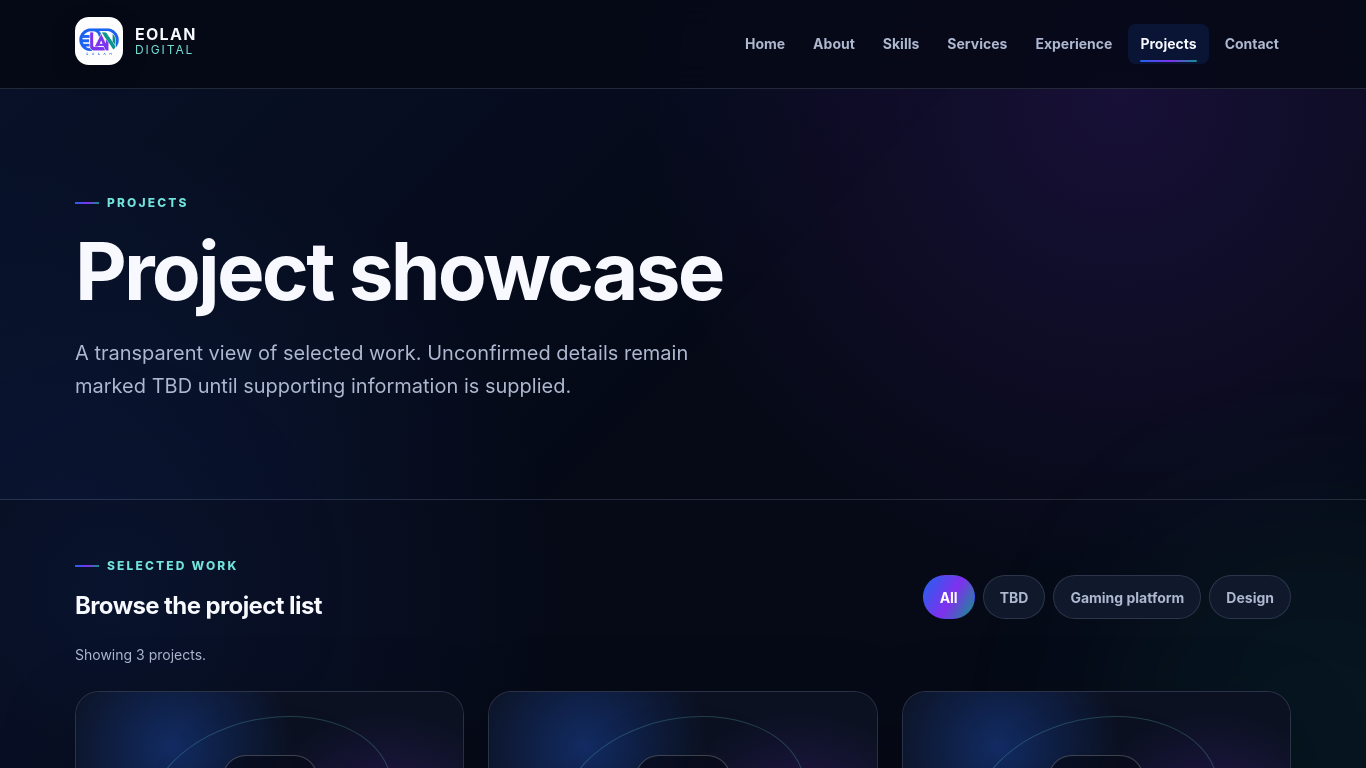
Test case: project gallery › filters cards by their disclosed category
Click the button "Design": coordinates (1250, 597) [1209,575,1291,619]
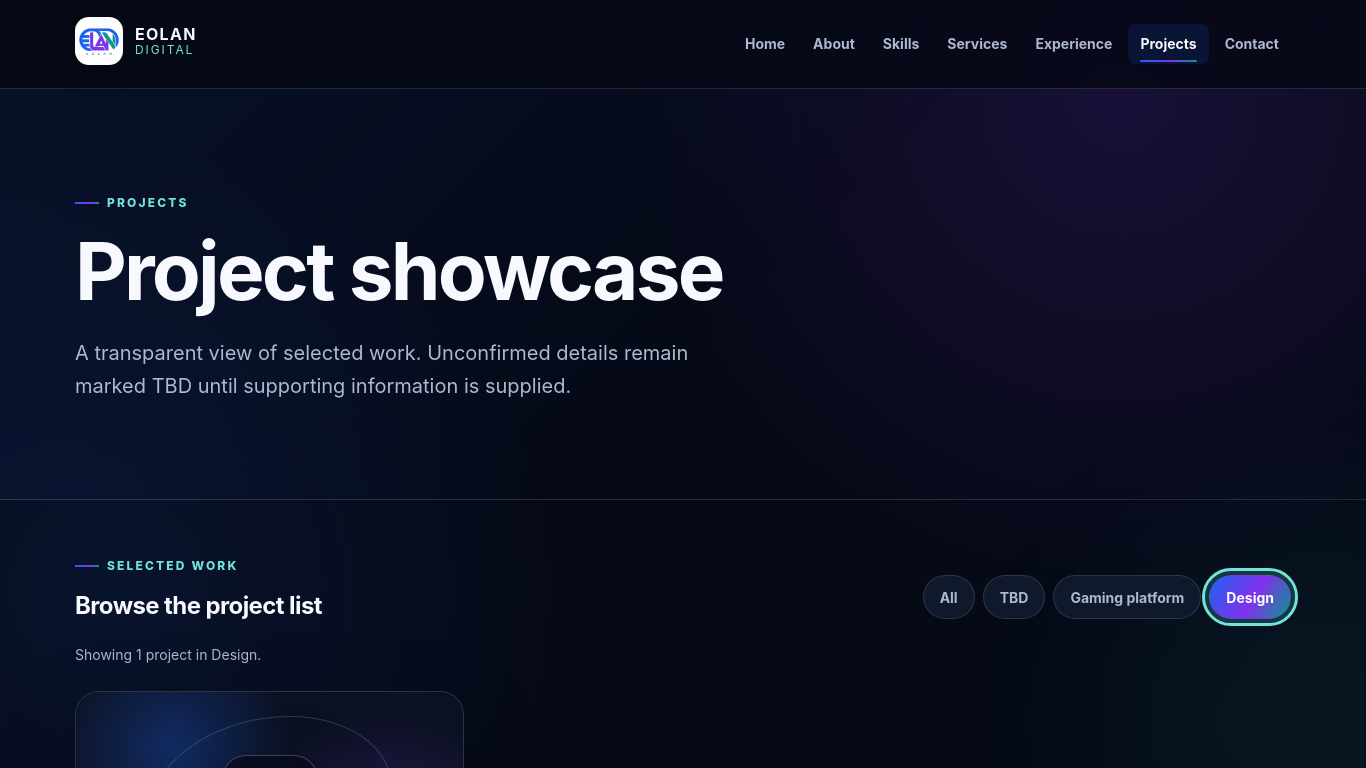
Expected: the text "Showing 1 project in Design." is shown, [75,646,261,663]
Click the button "All": coordinates (949, 597) [923,575,975,619]
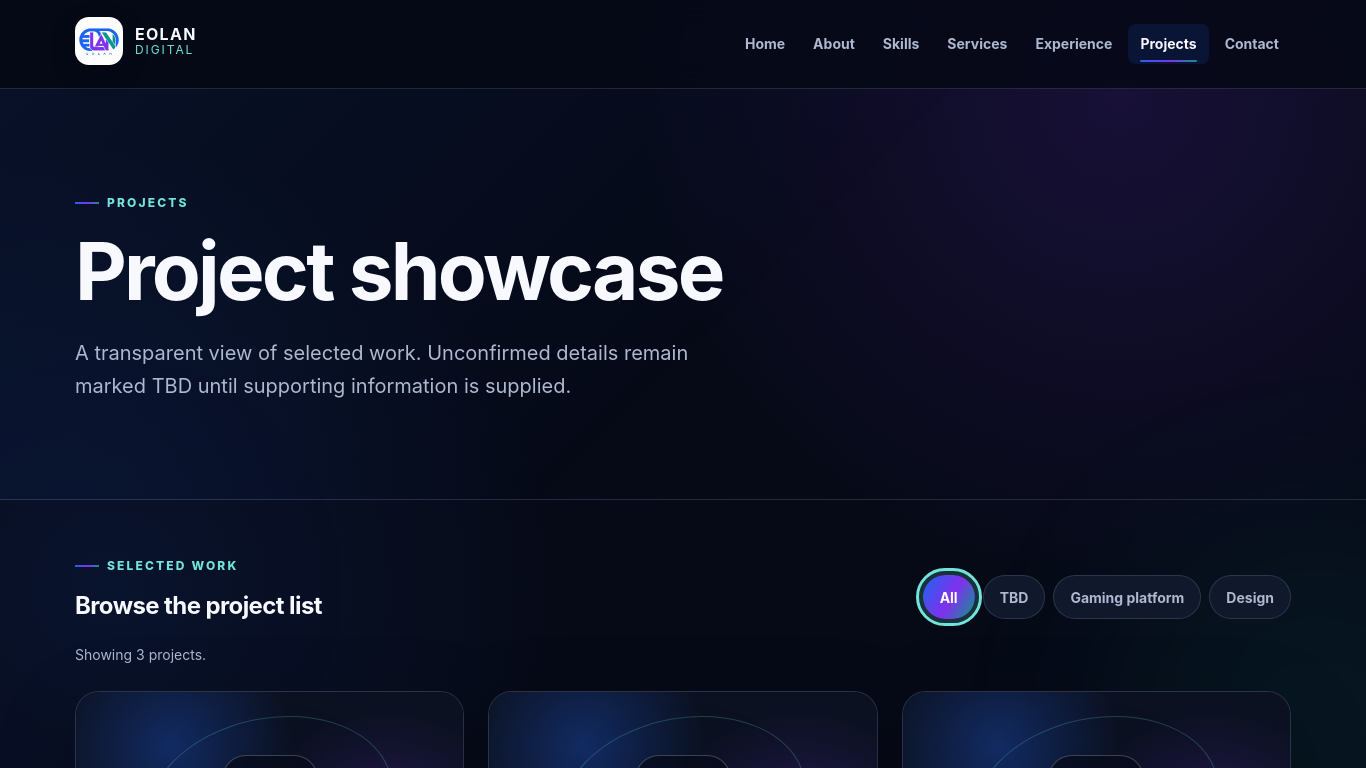
Expected: the text "Showing 3 projects." is shown, [75,646,206,663]
